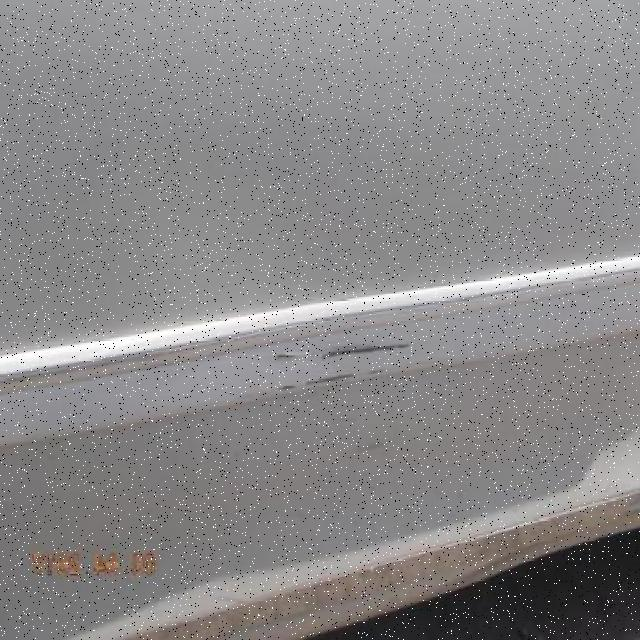damage: (273, 325, 414, 398)
